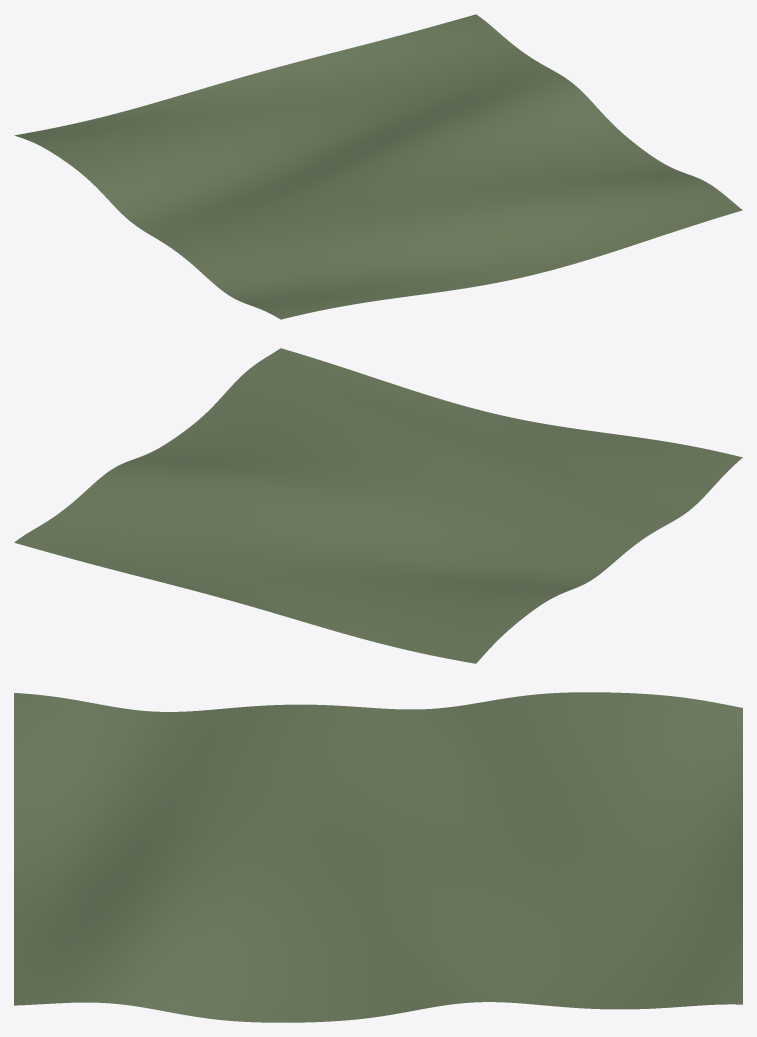
Rendered from amber_dry_wash.obj.
The picture shows the model from 3 angles, top to bottom: view 1: azimuth 30°, elevation 25°; view 2: azimuth 150°, elevation 25°; view 3: azimuth 270°, elevation 25°; orthographic projection. The views are drawn at different scales.
Bounding box in the file's own units: 179 × 7.25 × 179.
